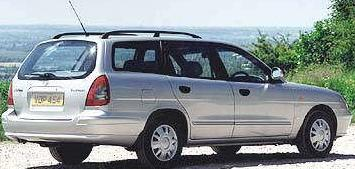back_view: (6, 74, 122, 150)
backlight: (84, 74, 120, 119)
side_glass: (162, 38, 281, 83)
